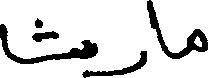X: (0, 13, 94, 77), (147, 0, 167, 60), (112, 46, 145, 77), (187, 24, 207, 59)
